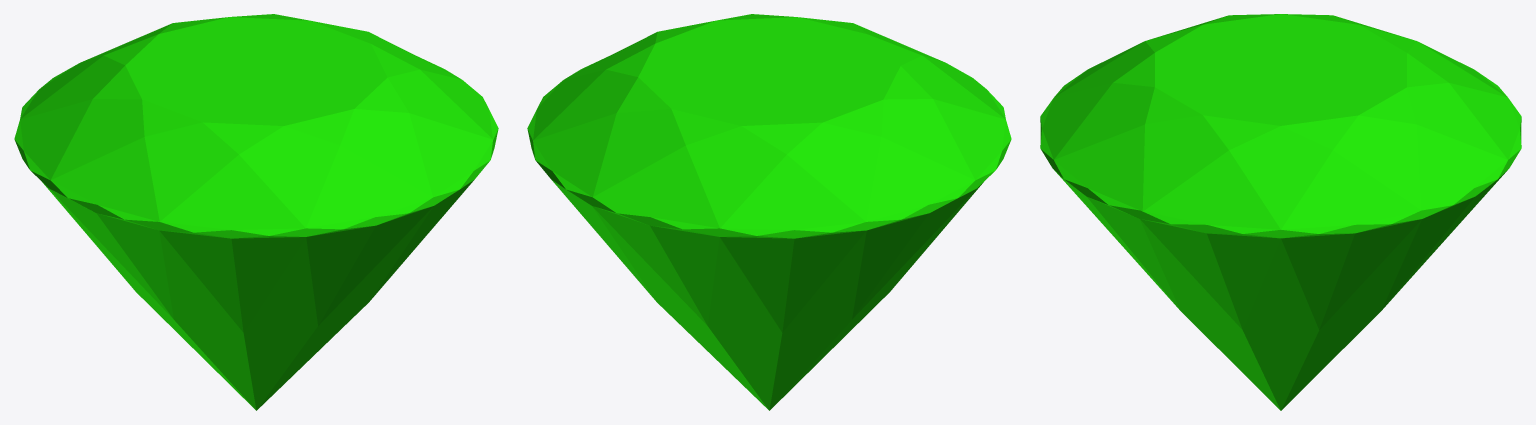
The model's file is GreenChaosEmerald.obj.
3 views of the same model, side by side, from view 1: azimuth 30°, elevation 25°; view 2: azimuth 150°, elevation 25°; view 3: azimuth 270°, elevation 25° (orthographic).
Visible parts, largest first — view 1: emerald_3; view 2: emerald_3; view 3: emerald_3.
Part boxes in pixels (x1,y1,x2,y2): emerald_3: (14,14,498,410); emerald_3: (527,14,1011,410); emerald_3: (1040,14,1521,410).
Size of the model in its own units: 0.0262 by 0.0205 by 0.0262.
